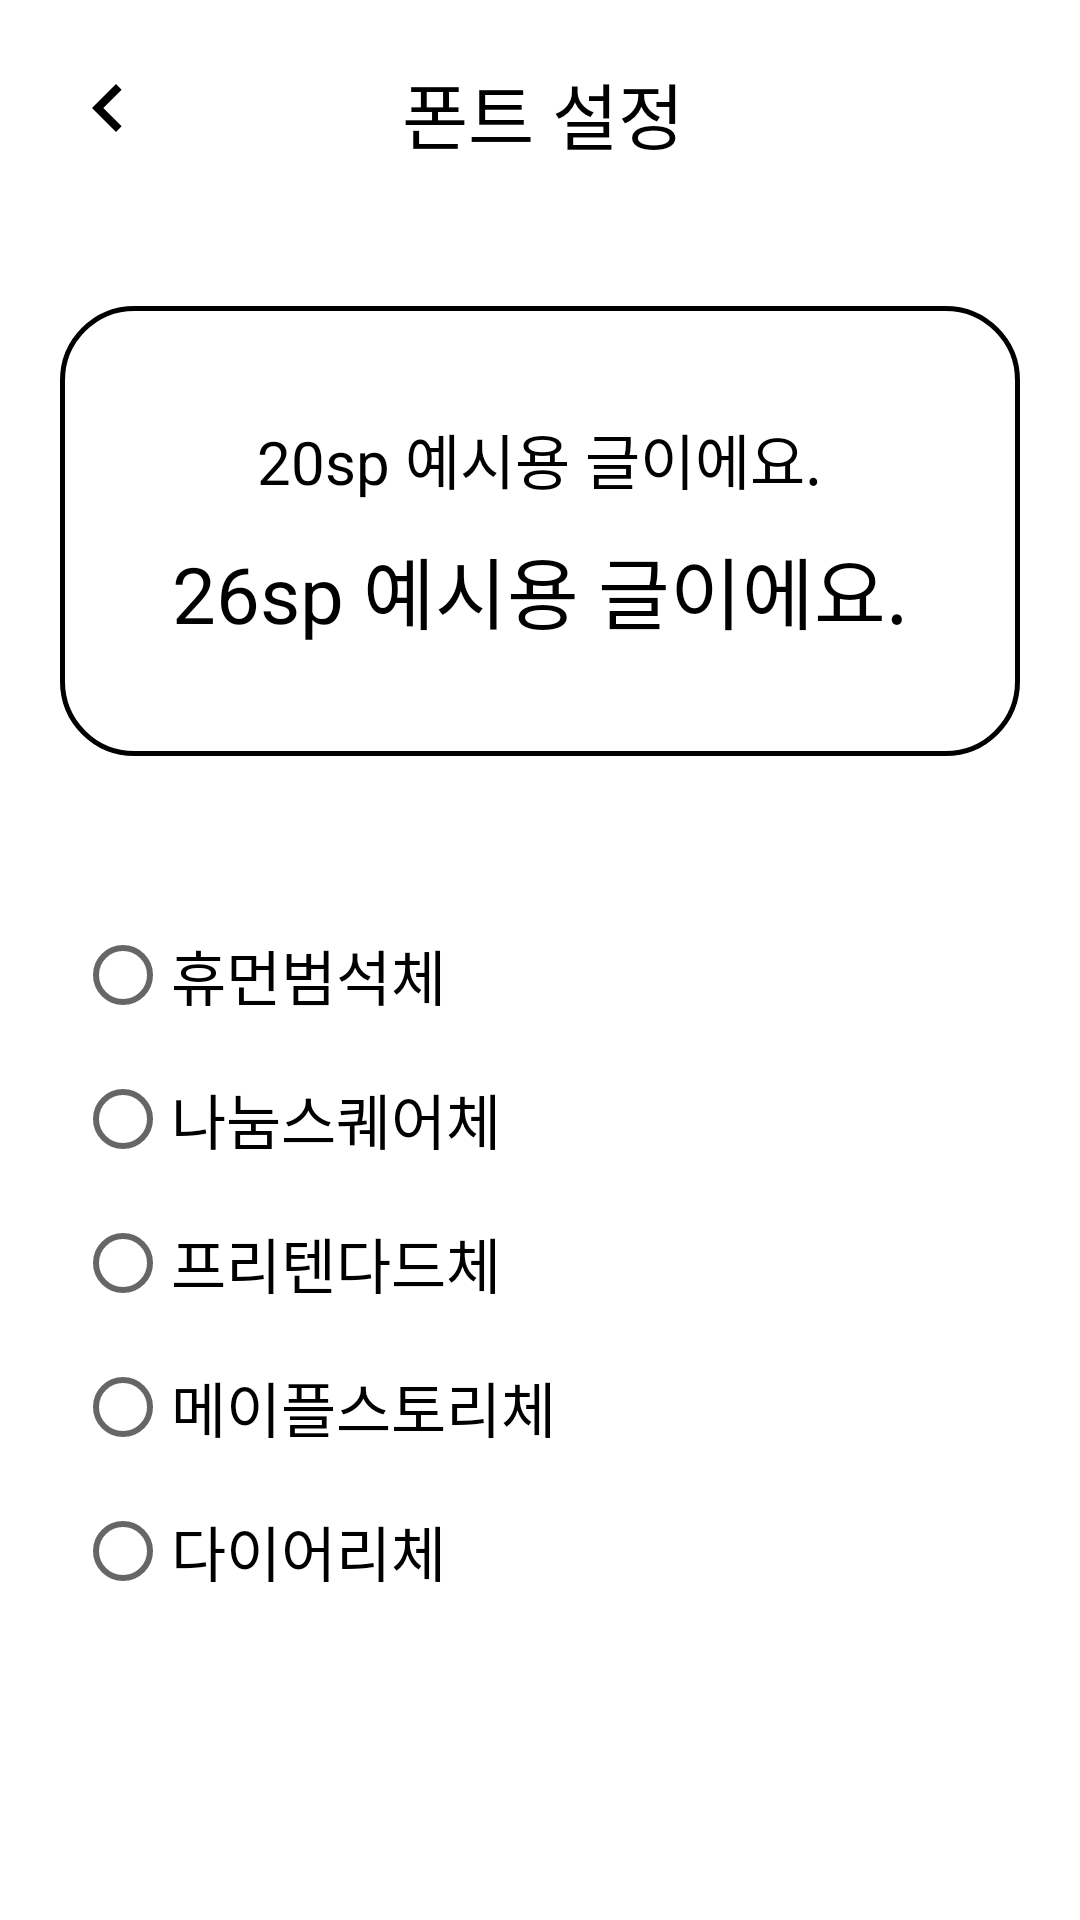

Point at icon controls on the screen. Image size 1080×1920, points as (x,y).
back: (107,108)
